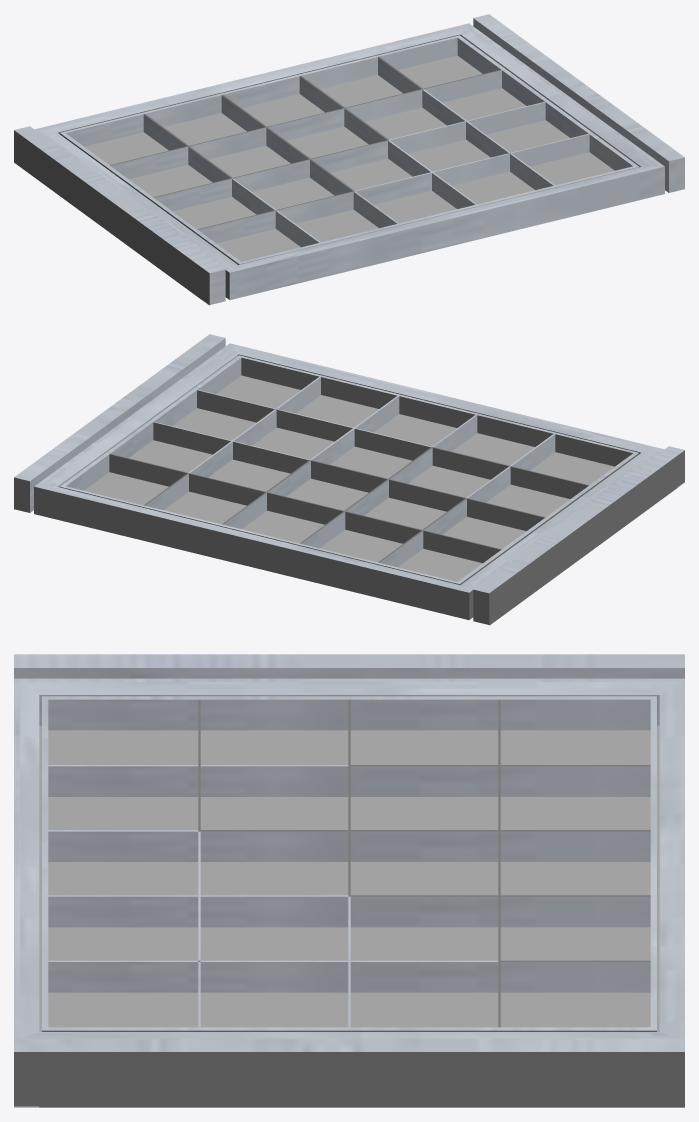
File: JP-drawer-multi-storage.glb
The picture shows the model from 3 angles, top to bottom: view 1: azimuth 30°, elevation 25°; view 2: azimuth 150°, elevation 25°; view 3: azimuth 270°, elevation 25°; orthographic projection. The views are drawn at different scales.
Parts seen in each view (by area): view 1: Geom3D (×3); view 2: Geom3D (×3); view 3: Geom3D (×3).
Boxes of the visible parts, x1,y1,x2,y2 form: Geom3D (×3): (14,14,684,304); Geom3D (×3): (14,334,684,625); Geom3D (×3): (14,654,684,1107).
Size of the model in its own units: 0.6955 by 0.0454 by 0.4962.
Materials: 3 (1 with a texture image).
